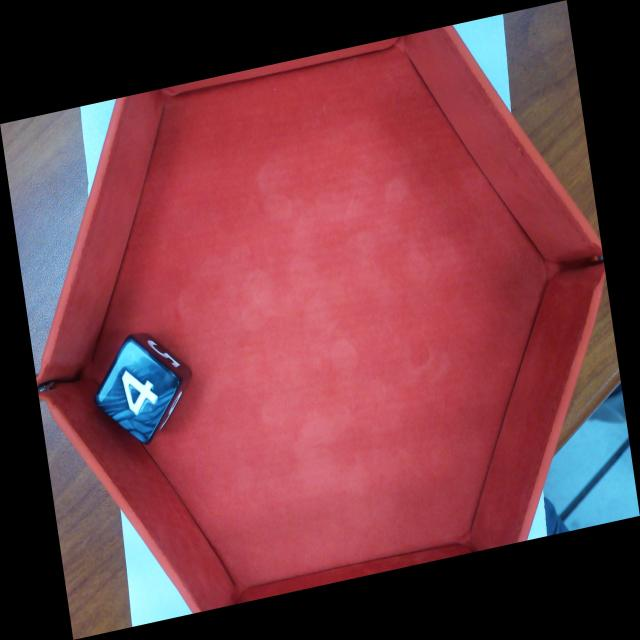dice: (95, 339, 181, 443)
